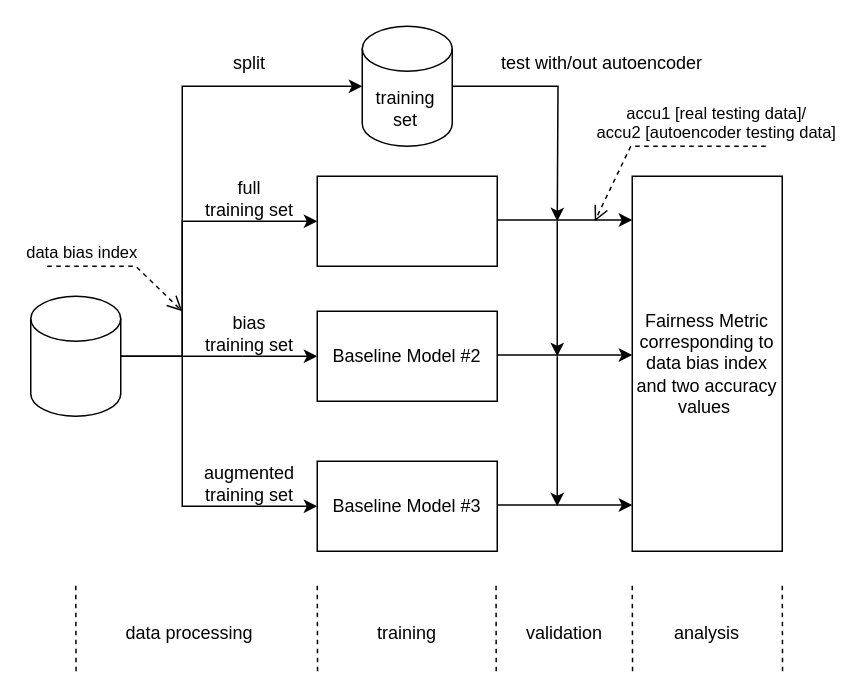
Image size: 861x699. Some labels were removed from this diagram. Each missing label, with the centre of its shape:
"Baseline Model #1" goes at point 406,220.
"IEMOCAP dataset" goes at point 75,355.
